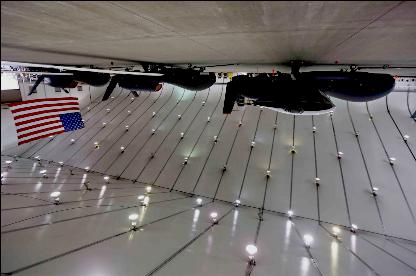P3: (223, 60, 396, 113), (0, 57, 216, 98), (1, 63, 115, 94)
